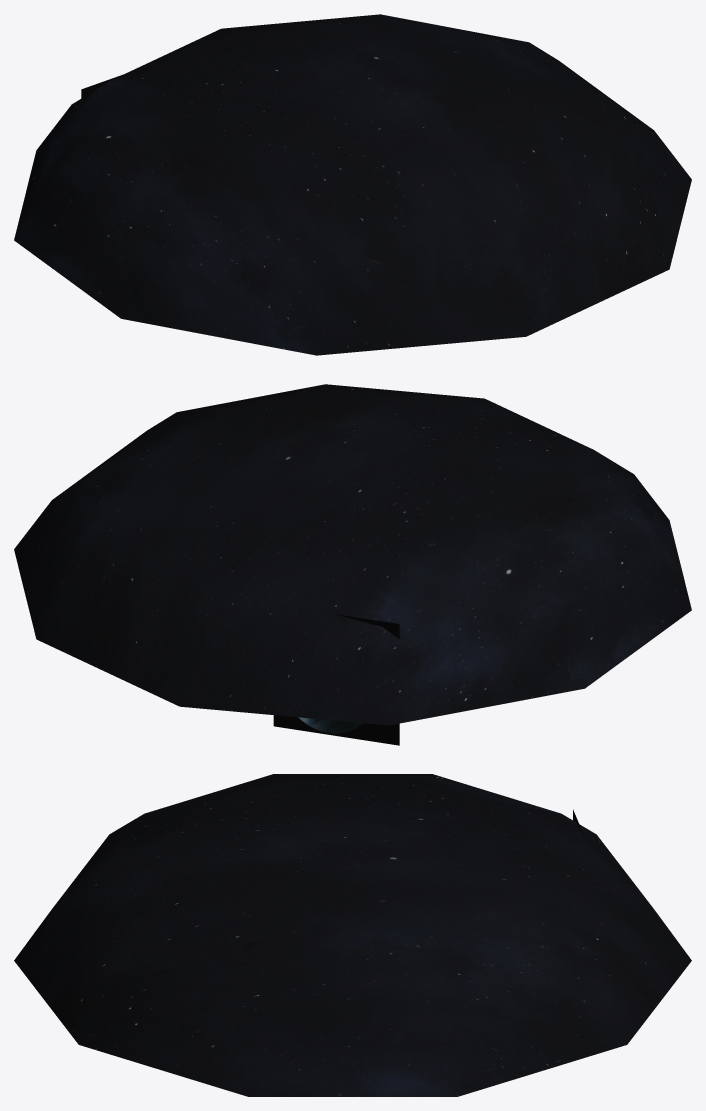
The model's file is ts_jjc001.FBX.
The picture shows the model from 3 angles, top to bottom: view 1: azimuth 30°, elevation 25°; view 2: azimuth 150°, elevation 25°; view 3: azimuth 270°, elevation 25°; orthographic projection. The views are drawn at different scales.
Visible parts, largest first — view 1: ts_jjcsky001; view 2: ts_jjcsky001, ts_jjcxq001; view 3: ts_jjcsky001.
Boxes of the visible parts, box(x1,y1,x2,y2) form: ts_jjcsky001: box(14, 14, 691, 355); ts_jjcsky001: box(14, 384, 691, 725); ts_jjcxq001: box(273, 614, 399, 745); ts_jjcsky001: box(14, 774, 691, 1096).
Bounding box in the file's own units: 59.87 × 17.84 × 62.95.
